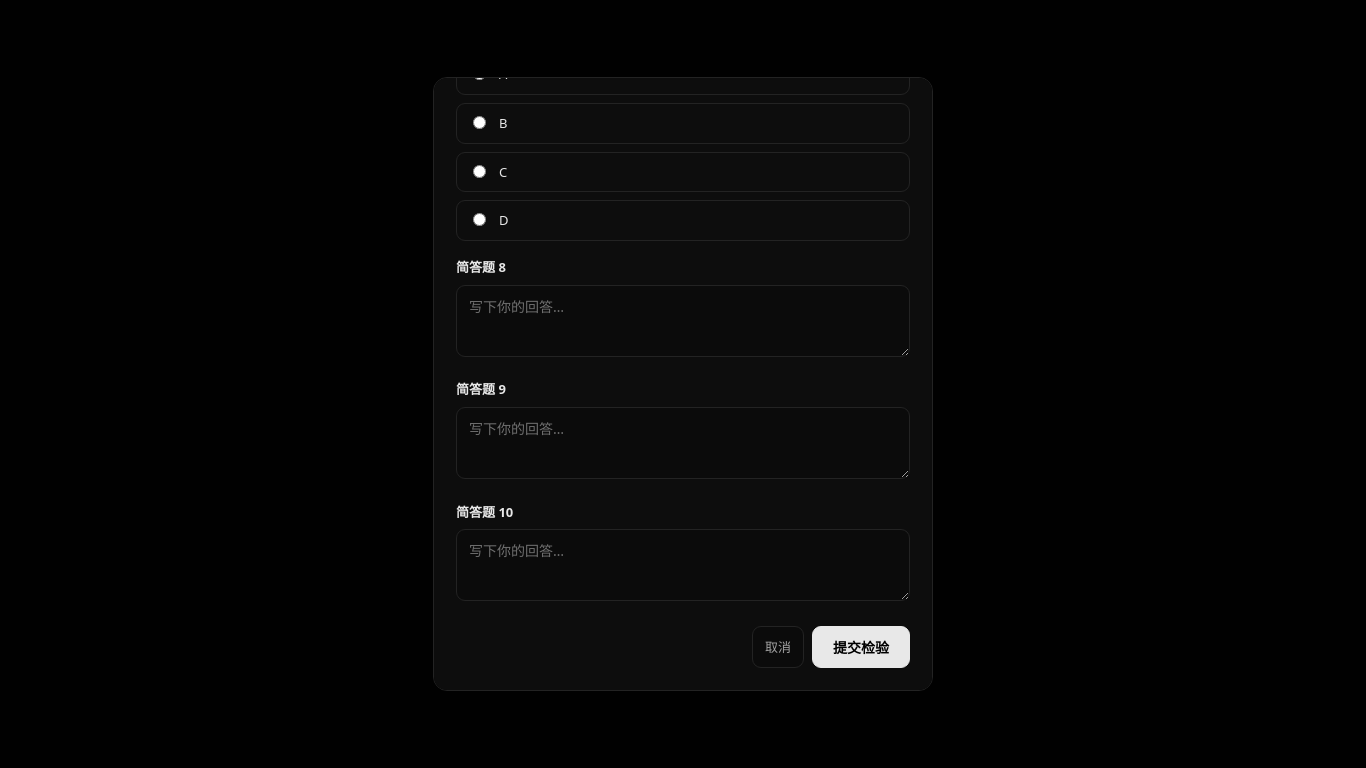
Test: VerificationModal › keeps submission state separate from generation state
The width and height of the screenshot is (1366, 768).
(page scrolled)
Click the button "提交检验" at (861, 647), box top-left (812, 626), bottom-right (910, 668)
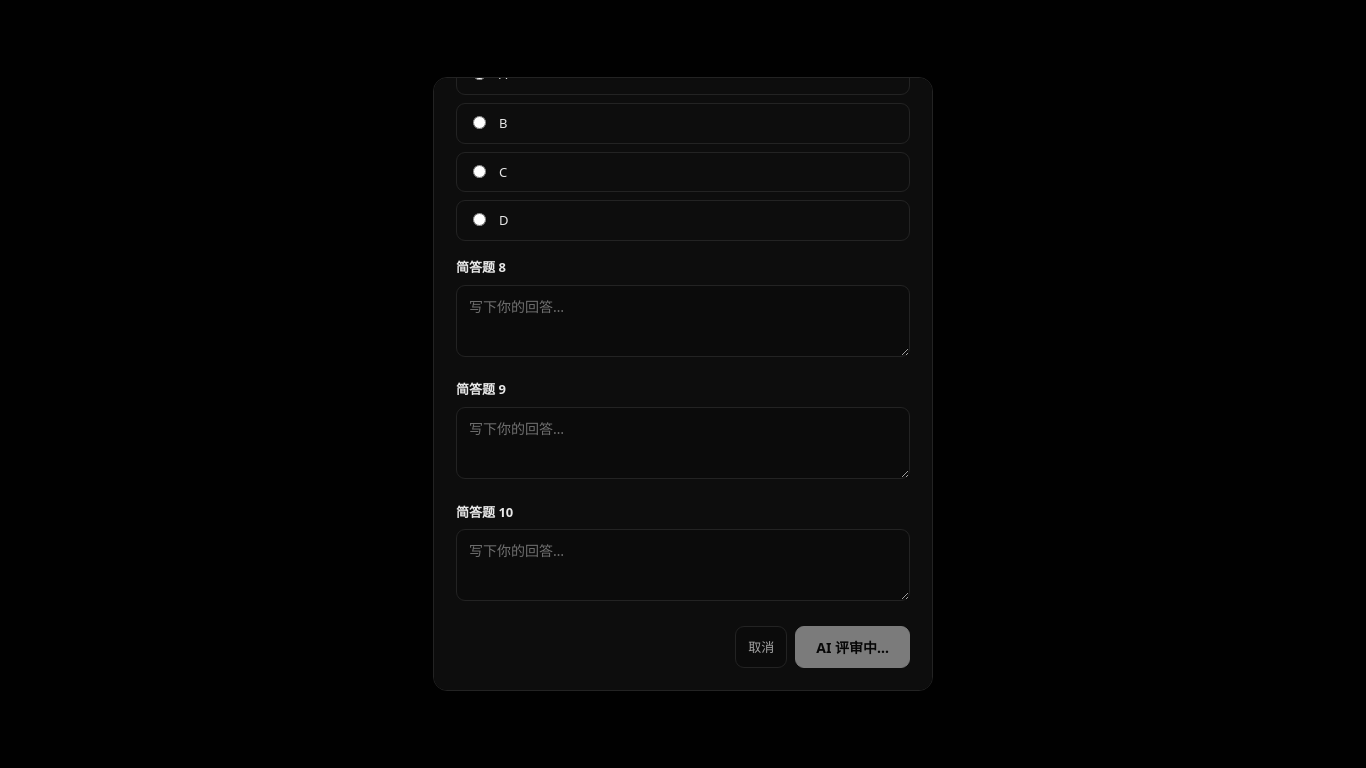
Expected: the button "AI 评审中…" is disabled, top-left (795, 626), bottom-right (910, 668)
